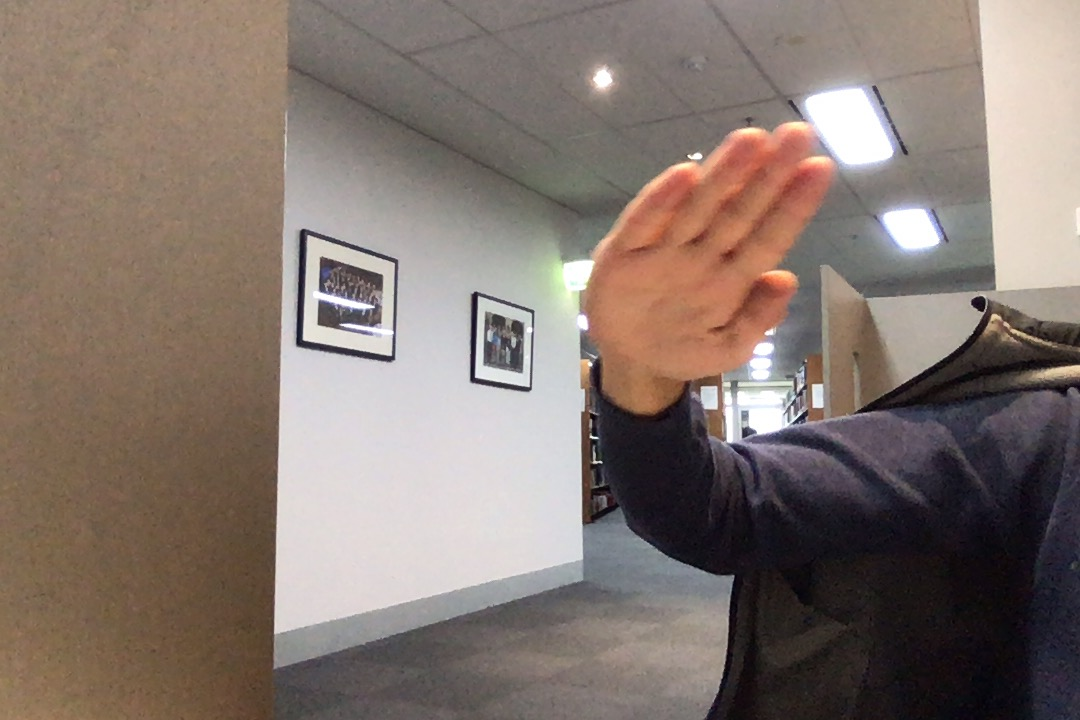palmhand: (567, 114, 846, 392)
